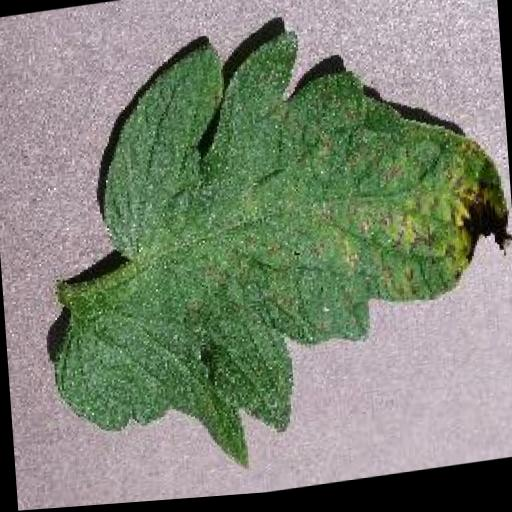Septoria: (28, 4, 512, 504)
